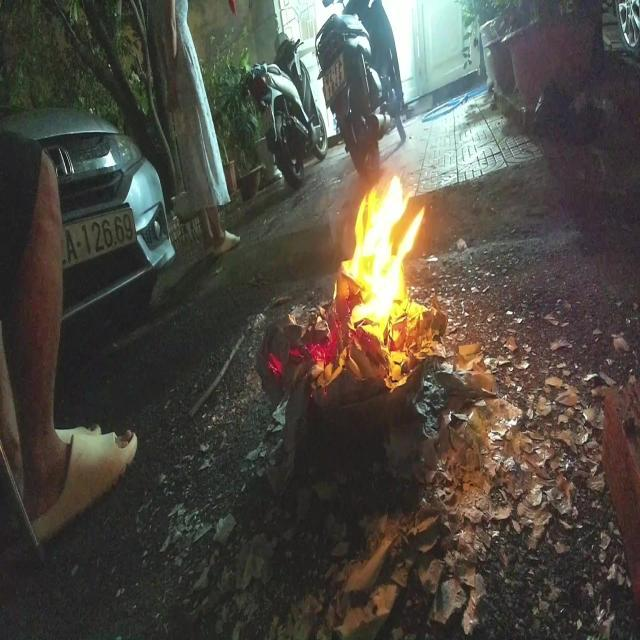Fire: (342, 174, 427, 332)
